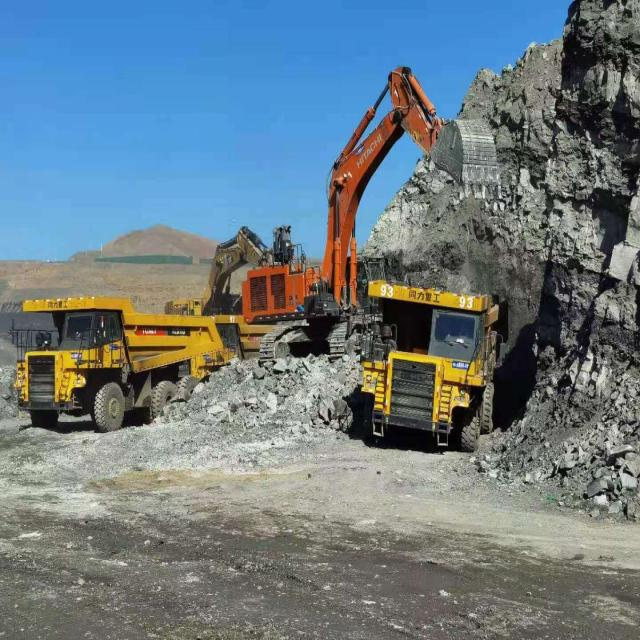dump_truck: (15, 276, 238, 423), (363, 267, 525, 453)
excavator: (241, 49, 507, 369)
